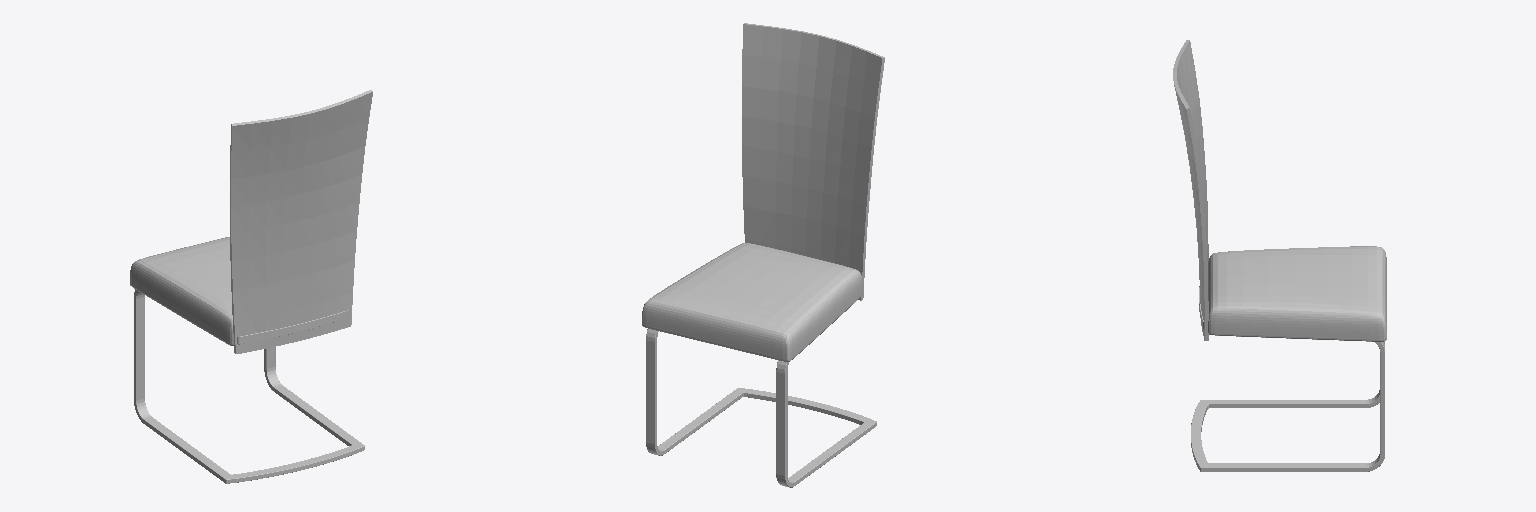
Rendered from stul.obj.
The picture shows the model from 3 angles: view 1: azimuth 30°, elevation 25°; view 2: azimuth 150°, elevation 25°; view 3: azimuth 270°, elevation 25°; orthographic projection.
Visible parts, largest first — view 1: Plane10, Box15, Rectangle21; view 2: Plane10, Box15, Rectangle21; view 3: Box15, Rectangle21, Plane10.
Boxes of the visible parts, x1,y1,x2,y2 form: Plane10: [230, 90, 372, 353]; Box15: [130, 237, 233, 345]; Rectangle21: [134, 289, 364, 483]; Plane10: [742, 23, 884, 300]; Box15: [642, 243, 862, 361]; Rectangle21: [646, 329, 876, 487]; Box15: [1208, 246, 1386, 341]; Rectangle21: [1191, 286, 1384, 471]; Plane10: [1173, 40, 1208, 340].
Bounding box in the file's own units: 464 × 1087 × 581.